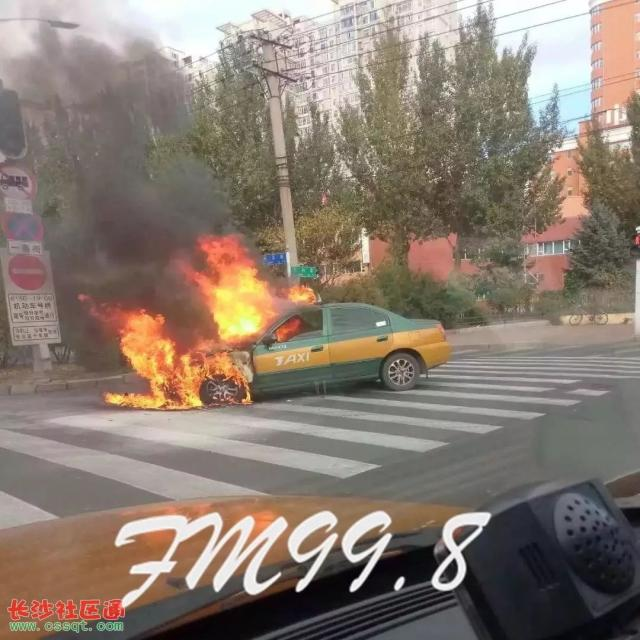fire: (89, 231, 316, 415)
